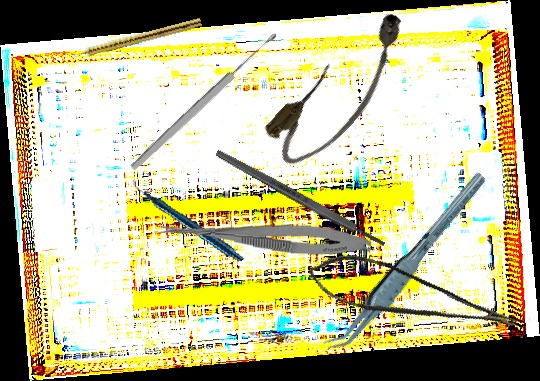Cannula: (257, 2, 429, 177)
Handpiece: (131, 153, 245, 287), (69, 14, 203, 62)
Micro Scissor: (301, 236, 521, 366), (153, 217, 372, 259)
Scalpel Handle: (214, 147, 387, 250)
Surgical Spoon: (127, 29, 281, 174)
Tissue Forceps: (308, 170, 506, 358)
